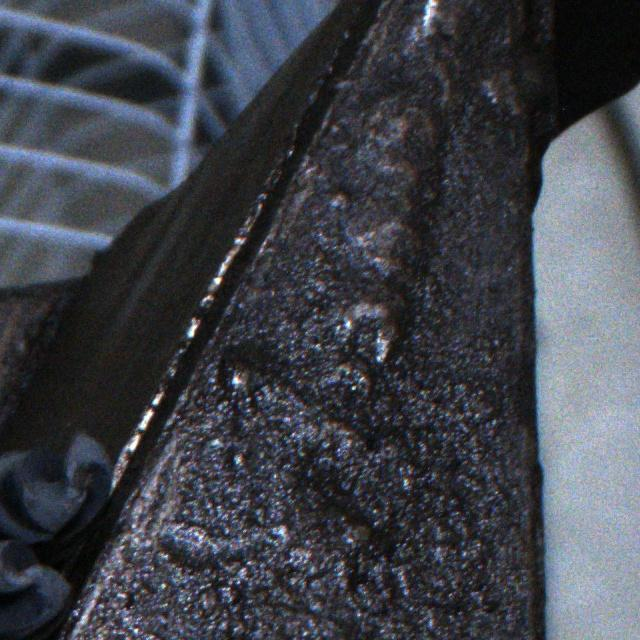tool_b: (0, 429, 113, 545), (0, 534, 73, 640)
